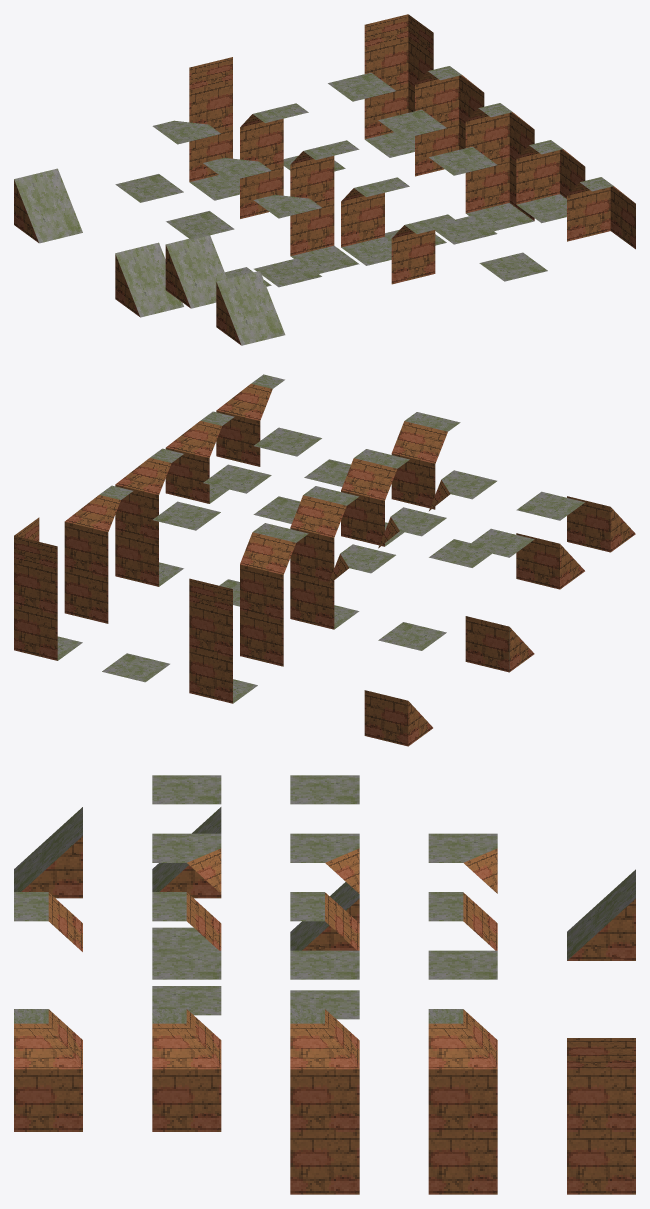
The model's file is tileset.glb.
3 renders of one model, top to bottom at view 1: azimuth 30°, elevation 25°; view 2: azimuth 150°, elevation 25°; view 3: azimuth 270°, elevation 25°, orthographic. The views are drawn at different scales.
Parts seen in each view (by area): view 1: corner-in-no-ceiling-col, corner-in-col, wall-col, wall-no-ceiling-col, corner-in-no-floor-col, ramp-col, ramp-elevated-col, corner-in-elevated-col, wall-no-floor-col, ramp-elevated-no-ceiling-col, ramp-no-ceiling-col, wall-elevated-col (+9 smaller); view 2: wall-col, wall-no-floor-col, corner-in-no-ceiling-col, corner-in-col, corner-in-no-floor-col, wall-no-ceiling-col, wall-elevated-col, wall-elevated-no-floor-col, ramp-col, ramp-elevated-col, corner-in-elevated-col, corner-in-elevated-no-floor-col (+10 smaller); view 3: corner-in-no-floor-col, corner-in-col, corner-in-no-ceiling-col, corner-in-elevated-col, corner-in-elevated-no-floor-col, corner-out-col, ramp-col, ramp-elevated-col, ramp-no-ceiling-col, corner-out-elevated-col, ramp-elevated-no-ceiling-col, wall-elevated-col (+7 smaller).
Part boxes in pixels (box(x1,y1,x2,y2)): corner-in-no-ceiling-col: box(364, 14, 433, 157); corner-in-col: box(465, 103, 534, 231); wall-col: box(290, 140, 359, 273); wall-no-ceiling-col: box(189, 57, 239, 200); corner-in-no-floor-col: box(415, 66, 484, 176); ramp-col: box(115, 174, 183, 317); ramp-elevated-col: box(165, 211, 234, 308); corner-in-elevated-col: box(516, 140, 585, 223); wall-no-floor-col: box(240, 103, 308, 218); ramp-elevated-no-ceiling-col: box(216, 271, 285, 345); ramp-no-ceiling-col: box(14, 168, 82, 243); wall-elevated-col: box(341, 177, 409, 265); wall-col: box(290, 486, 359, 629); wall-no-floor-col: box(240, 523, 308, 666); corner-in-no-ceiling-col: box(14, 517, 82, 660); corner-in-col: box(115, 448, 183, 586); corner-in-no-floor-col: box(64, 485, 133, 623); wall-no-ceiling-col: box(189, 578, 257, 703); wall-elevated-col: box(341, 449, 409, 546); wall-elevated-no-floor-col: box(391, 412, 460, 509); ramp-col: box(465, 528, 534, 672); ramp-elevated-col: box(516, 491, 584, 589); corner-in-elevated-col: box(165, 411, 234, 503); corner-in-elevated-no-floor-col: box(216, 374, 284, 466); corner-in-no-floor-col: box(428, 1009, 497, 1194); corner-in-col: box(290, 1009, 359, 1194); corner-in-no-ceiling-col: box(567, 1038, 635, 1194); corner-in-elevated-col: box(152, 1009, 221, 1131); corner-in-elevated-no-floor-col: box(14, 1009, 82, 1131); corner-out-col: box(290, 833, 359, 1019); ramp-col: box(290, 775, 359, 950); ramp-elevated-col: box(152, 775, 221, 898); ramp-no-ceiling-col: box(567, 869, 635, 960); corner-out-elevated-col: box(152, 833, 221, 950); ramp-elevated-no-ceiling-col: box(14, 807, 82, 898); wall-elevated-col: box(152, 892, 221, 1015).
Size of the model in its own units: 9 by 2.5 by 9.
2 materials, 2 textured.
